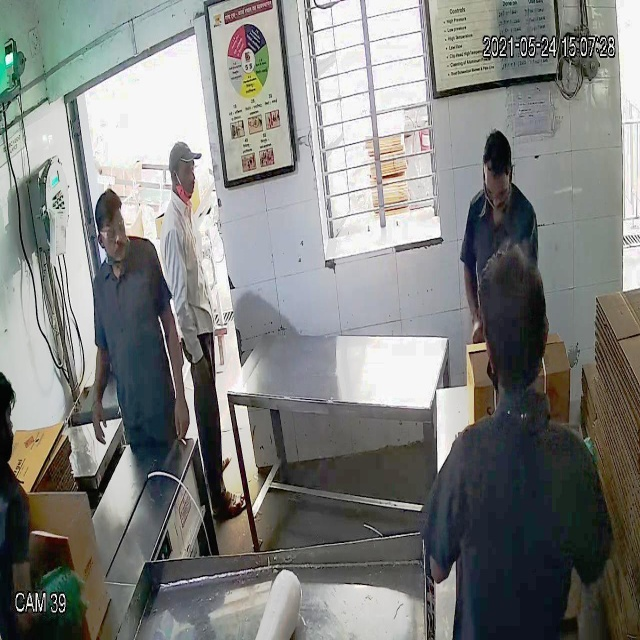Gafas: (93, 216, 128, 248), (480, 176, 512, 207)
